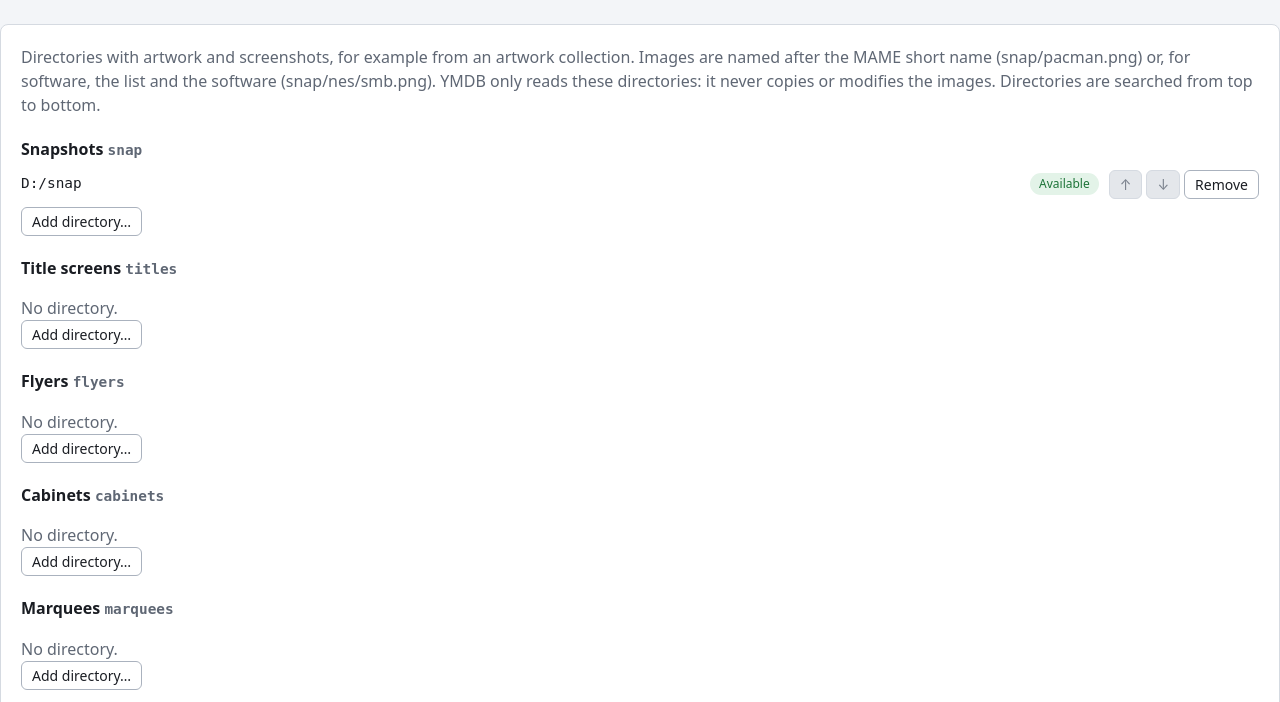
MediaSourcesSettings › refuses a directory listed twice and reports rejected saves
Step 1. Click the button "Add directory…" below "D:/snap" → (82, 221), box [21,207,142,236]
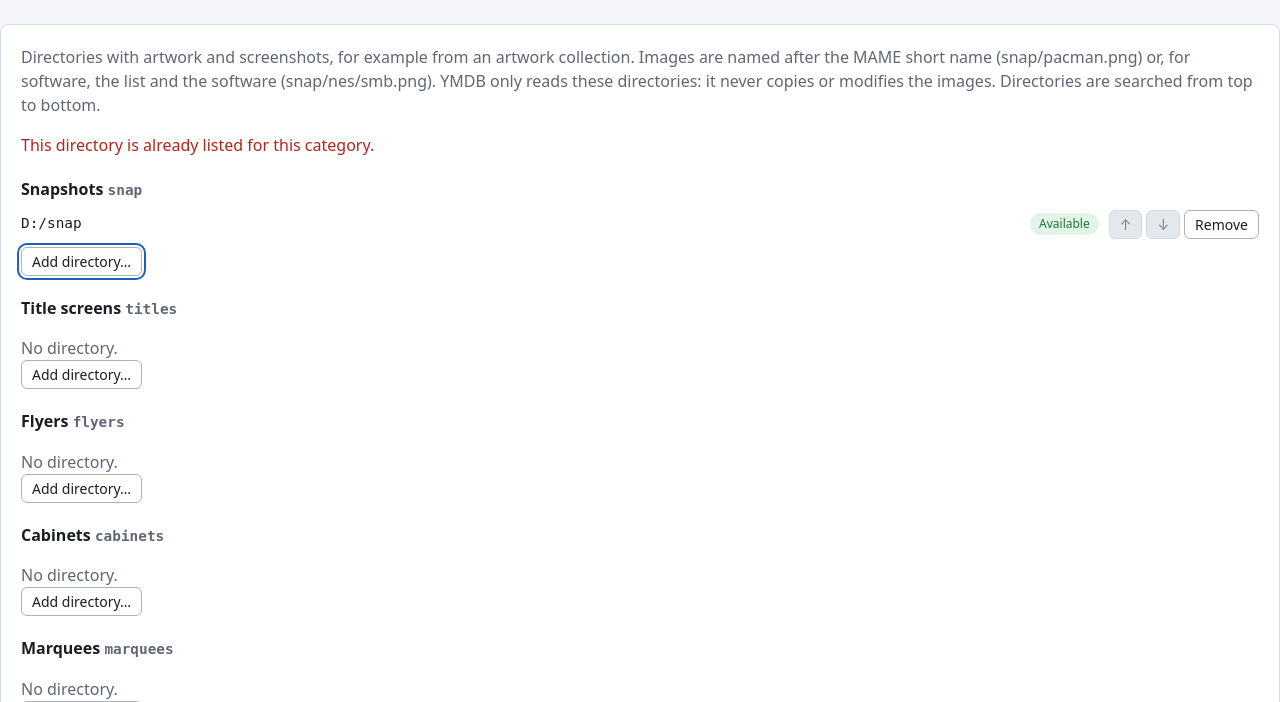
Now the message shows "already listed", box [21,134,374,156]
Step 2. Click the button "Add directory…" below "D:/snap" → (82, 261), box [21,247,142,276]
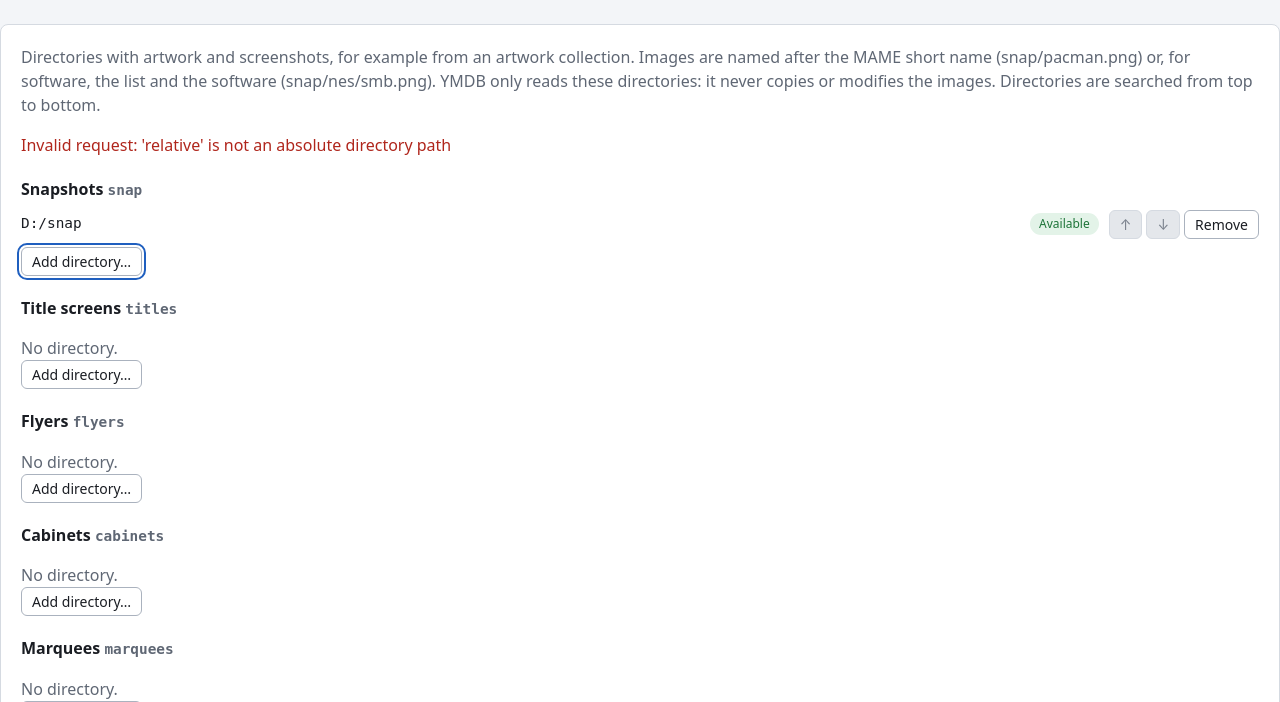
Now the message shows "not an absolute directory path", box [21,134,451,156]
